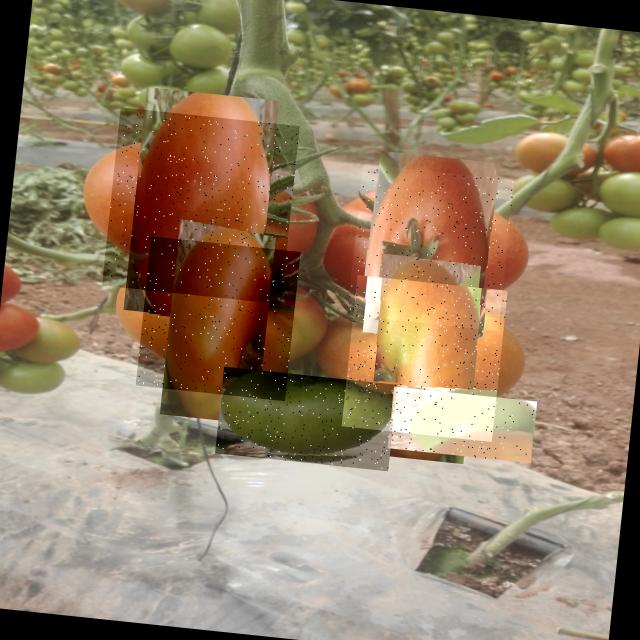Ripe Tomato: (102, 107, 300, 304), (346, 164, 514, 330)
Unripe Tomato: (341, 274, 507, 442), (135, 236, 300, 401), (215, 366, 396, 471), (387, 386, 537, 463)
